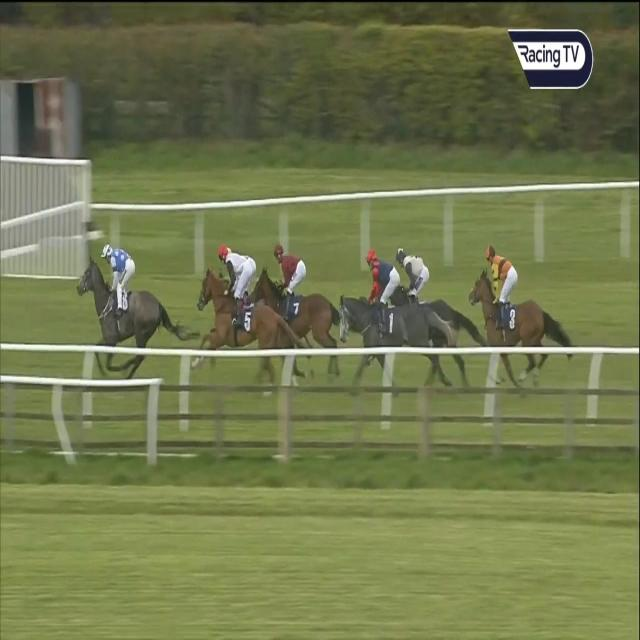horses-racing: (333, 249, 434, 395), (195, 245, 287, 401), (466, 247, 564, 378), (77, 244, 168, 380), (253, 240, 340, 375), (386, 242, 462, 360)
